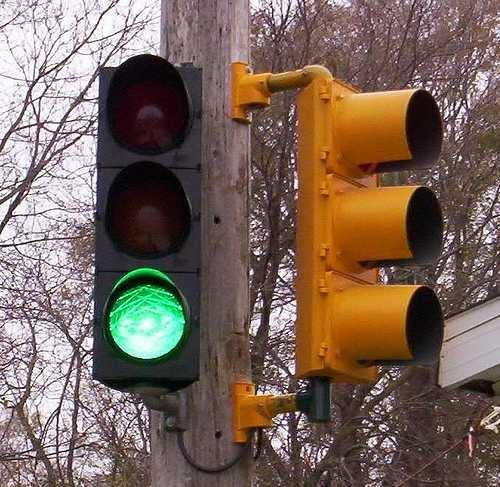green: (97, 58, 197, 371), (96, 270, 196, 366)
